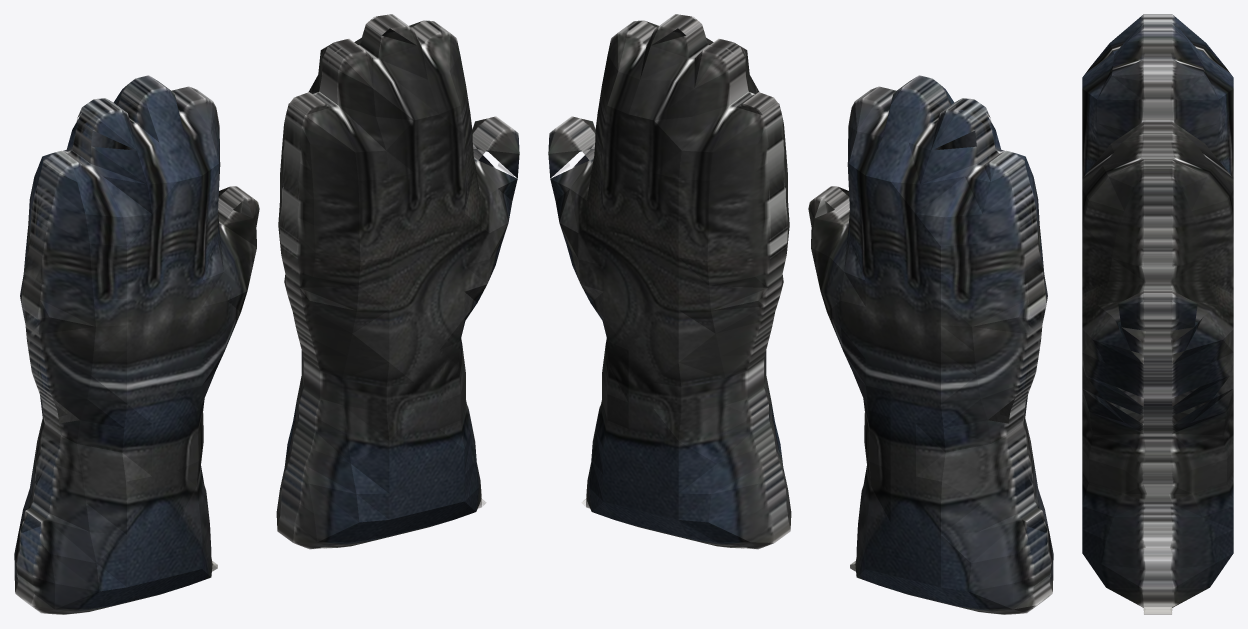
File: klim-nomad-waterproof-glove-111.glb
The picture shows the model from 3 angles, left to right: view 1: azimuth 30°, elevation 25°; view 2: azimuth 150°, elevation 25°; view 3: azimuth 270°, elevation 25°; orthographic projection. The views are drawn at different scales.
Parts seen in each view (by area): view 1: world; view 2: world; view 3: world.
Boxes of the visible parts, x1,y1,x2,y2 form: world: (14, 14, 519, 614); world: (548, 14, 1053, 614); world: (1082, 14, 1233, 614).
Bounding box in the file's own units: 1 × 1 × 0.3.
1 material, 1 textured.
